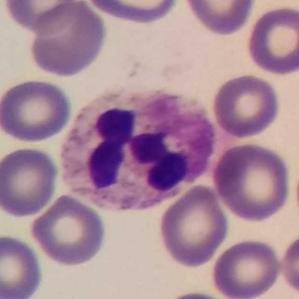Neutrophil: (58, 81, 235, 218)
RBC: (212, 140, 294, 224), (156, 182, 232, 270), (26, 0, 109, 79), (28, 192, 109, 268), (209, 71, 283, 140), (0, 77, 74, 144), (210, 236, 284, 299), (0, 144, 60, 218), (244, 3, 299, 77), (0, 231, 45, 299), (180, 0, 259, 37), (1, 0, 80, 35), (82, 0, 181, 26), (277, 229, 299, 297)
